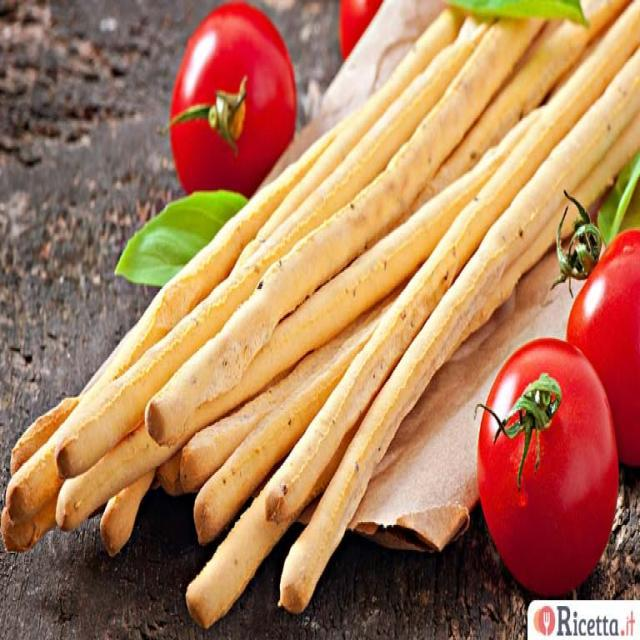Grissini: (38, 30, 620, 576)
Tomato: (474, 336, 619, 575), (168, 9, 297, 185)
